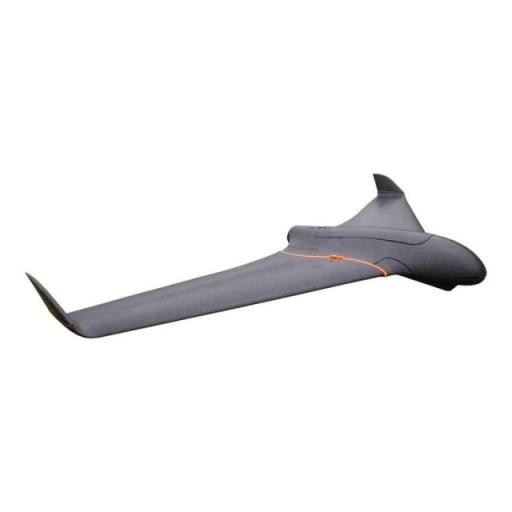uav: (18, 170, 486, 332)
